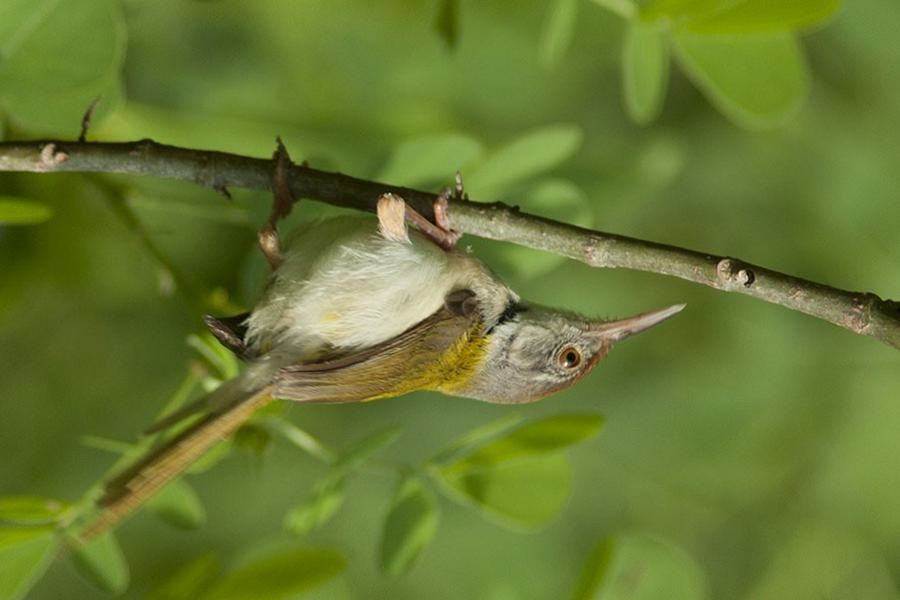tailorbird: (72, 193, 715, 528)
